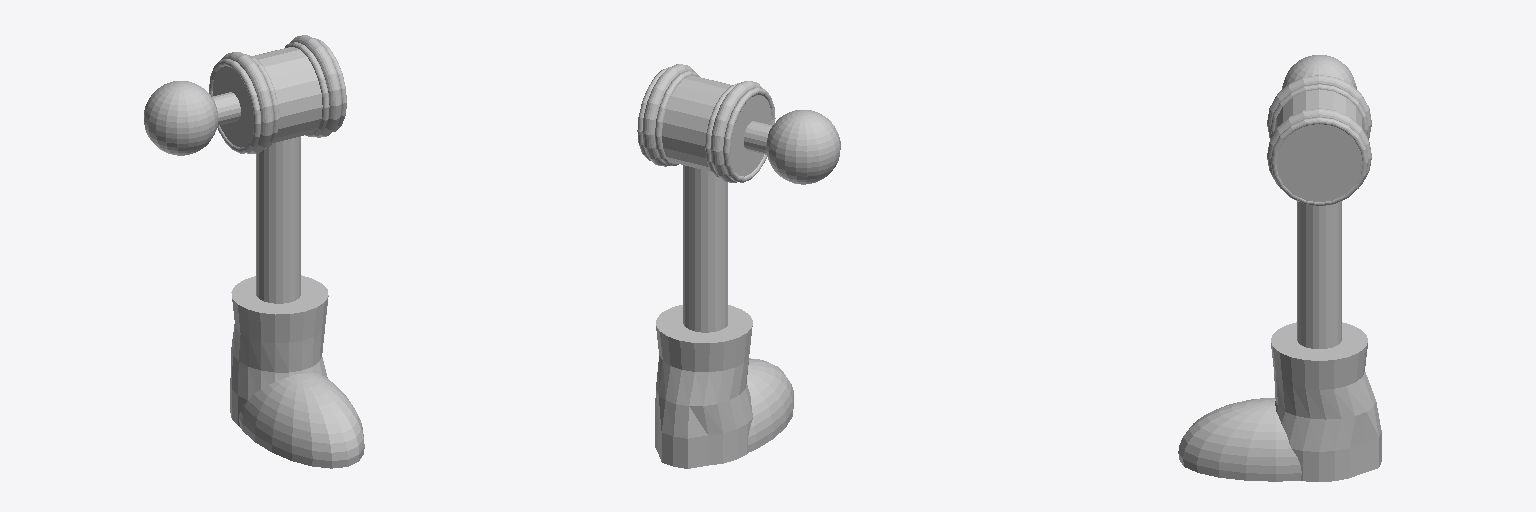
Rendered from CylinderBotLeftLeg_Positioned.obj.
The picture shows the model from 3 angles: view 1: azimuth 30°, elevation 25°; view 2: azimuth 150°, elevation 25°; view 3: azimuth 270°, elevation 25°; orthographic projection.
Visible parts, largest first — view 1: polySurface21 polySurface28; view 2: polySurface21 polySurface28; view 3: polySurface21 polySurface28.
Part boxes in pixels (x1,y1,x2,y2): polySurface21 polySurface28: (144, 35, 364, 468); polySurface21 polySurface28: (637, 64, 840, 468); polySurface21 polySurface28: (1178, 55, 1381, 481).
Size of the model in its own units: 5.4 by 10.82 by 5.41.